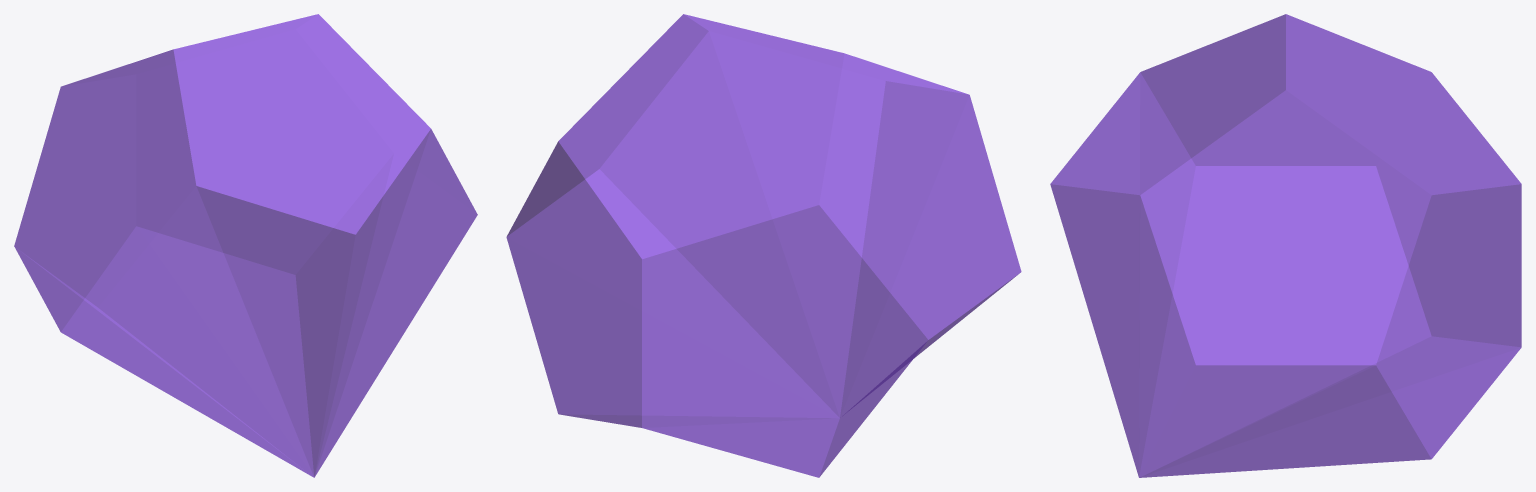
The model's file is Dodecahedron.obj.
3 views of the same model, side by side, from view 1: azimuth 30°, elevation 25°; view 2: azimuth 150°, elevation 25°; view 3: azimuth 270°, elevation 25° (orthographic). The views are drawn at different scales.
Size of the model in its own units: 2.62 by 2.61 by 2.62.
